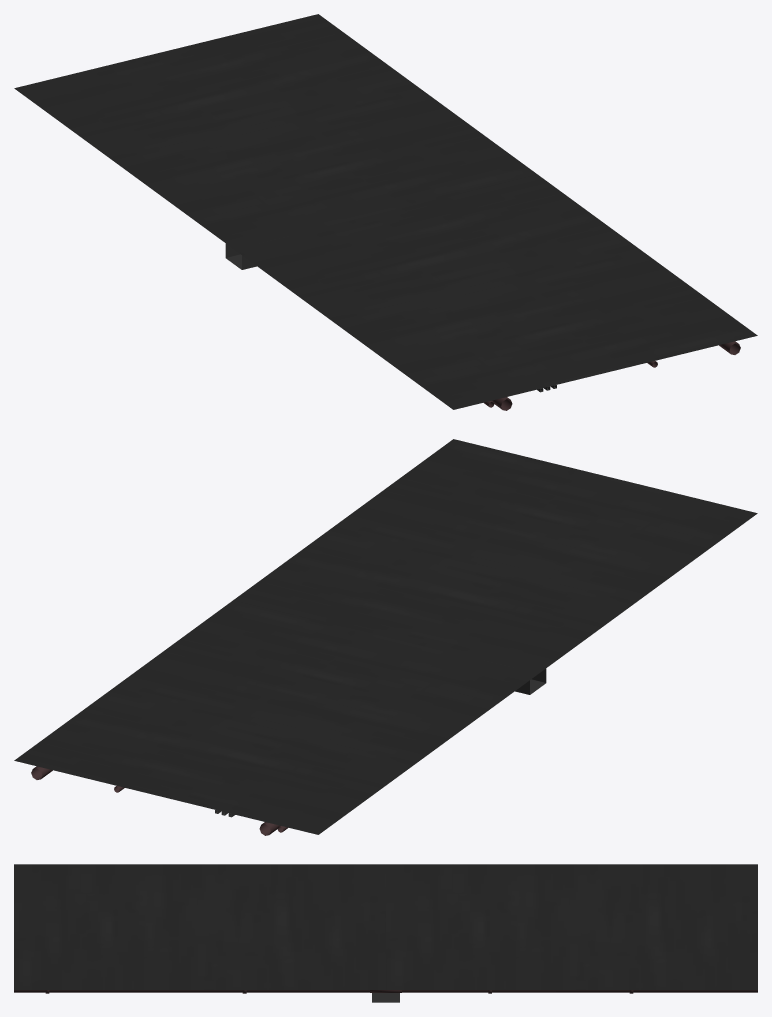
The model's file is SW_ENV_RailTunnelCeiling_Single_10m_FF.fbx.
3 views of the same model, one above another, from view 1: azimuth 30°, elevation 25°; view 2: azimuth 150°, elevation 25°; view 3: azimuth 270°, elevation 25° (orthographic). The views are drawn at different scales.
Parts seen in each view (by area): view 1: SW_ENV_RailTunnelCeiling_Single_10m_FF; view 2: SW_ENV_RailTunnelCeiling_Single_10m_FF; view 3: SW_ENV_RailTunnelCeiling_Single_10m_FF.
Part boxes in pixels (x1,y1,x2,y2): SW_ENV_RailTunnelCeiling_Single_10m_FF: [14, 14, 757, 410]; SW_ENV_RailTunnelCeiling_Single_10m_FF: [14, 439, 757, 835]; SW_ENV_RailTunnelCeiling_Single_10m_FF: [14, 864, 757, 1002].
Bounding box in the file's own units: 4 × 0.19 × 10.
